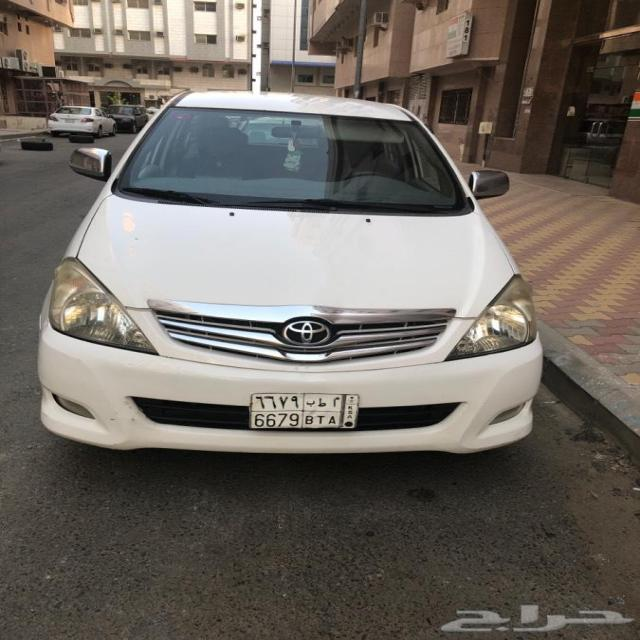license_plate: (248, 392, 362, 431)
